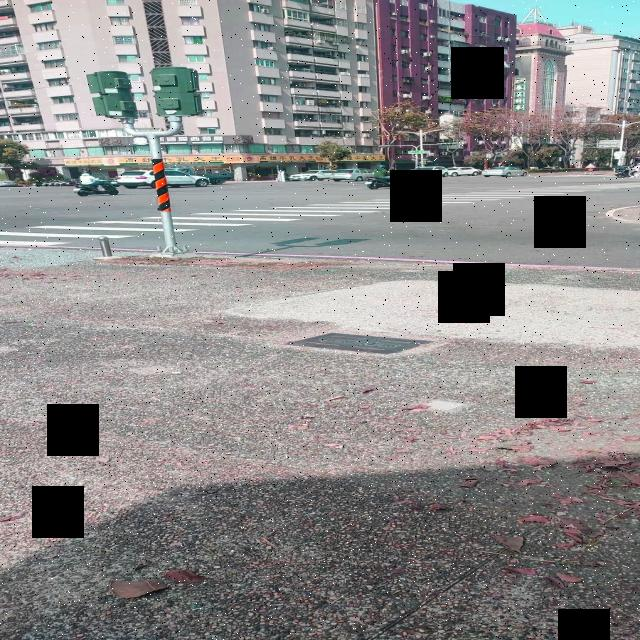person: (81, 172, 114, 191), (372, 165, 397, 181)
zebra crossing: (172, 179, 640, 233), (0, 214, 164, 246)
